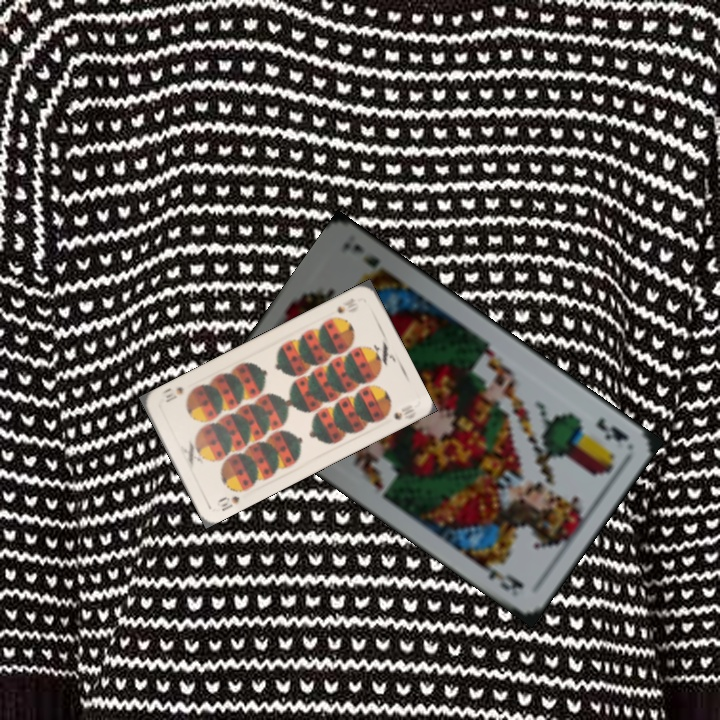EK: (592, 413, 631, 444)
S10: (213, 492, 242, 514), (333, 294, 358, 316)
